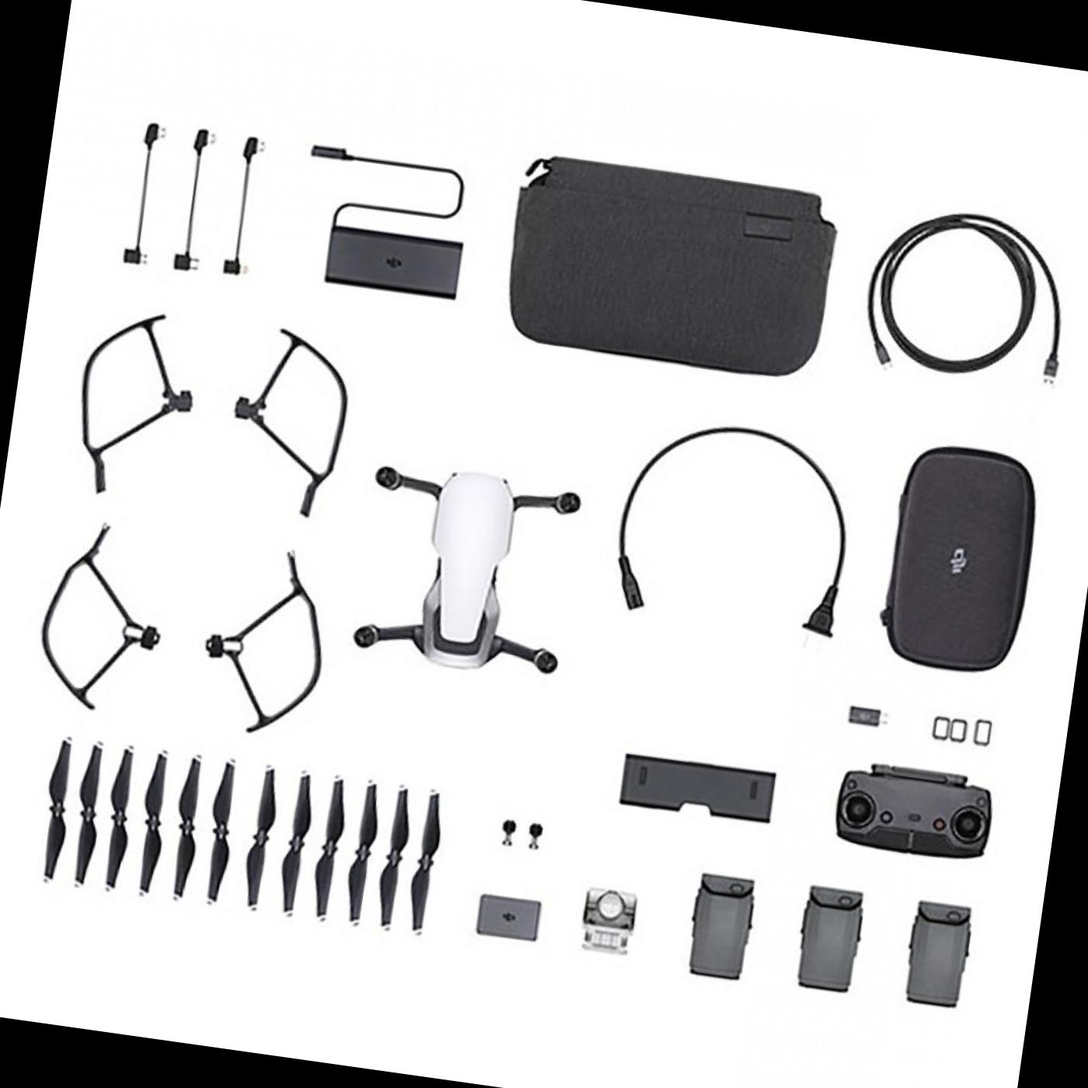drone: (11, 302, 358, 742), (323, 434, 608, 683)
